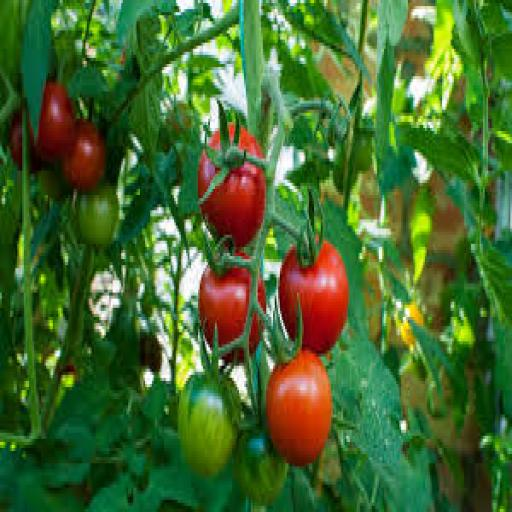tomato: (279, 241, 349, 353), (267, 351, 332, 466), (178, 375, 240, 475), (200, 162, 266, 246), (234, 427, 288, 505), (198, 269, 250, 347), (36, 83, 75, 161), (64, 122, 105, 191), (77, 183, 119, 246), (0, 0, 30, 88), (400, 302, 423, 347), (38, 168, 69, 201), (352, 128, 373, 173), (140, 333, 162, 374), (354, 128, 373, 173), (9, 110, 22, 170), (140, 290, 155, 316)
